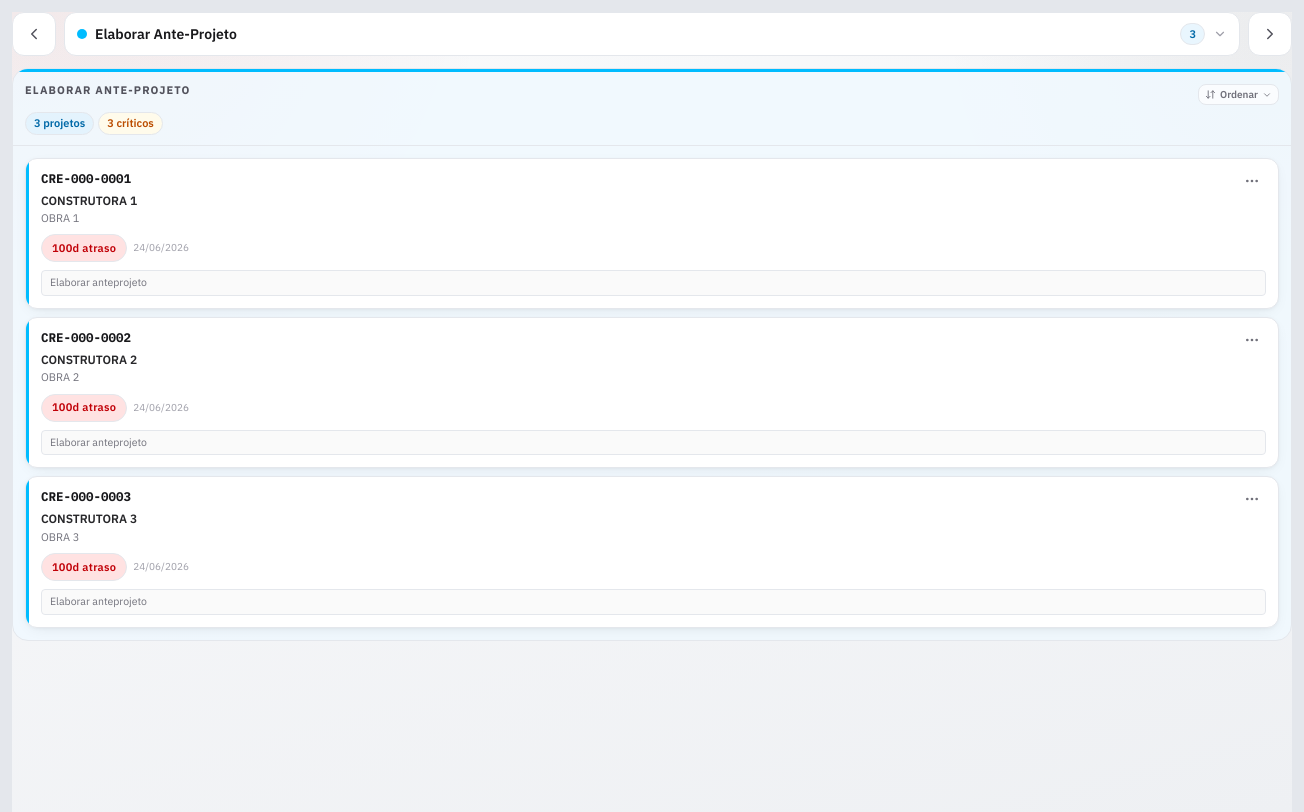
Test case: Kanban no celular — uma etapa por vez › escolher uma etapa distante no seletor troca a etapa exibida
Step 1. Click the button with aria-label "Etapa: " → x=166, y=34, box [64, 12, 1240, 56]
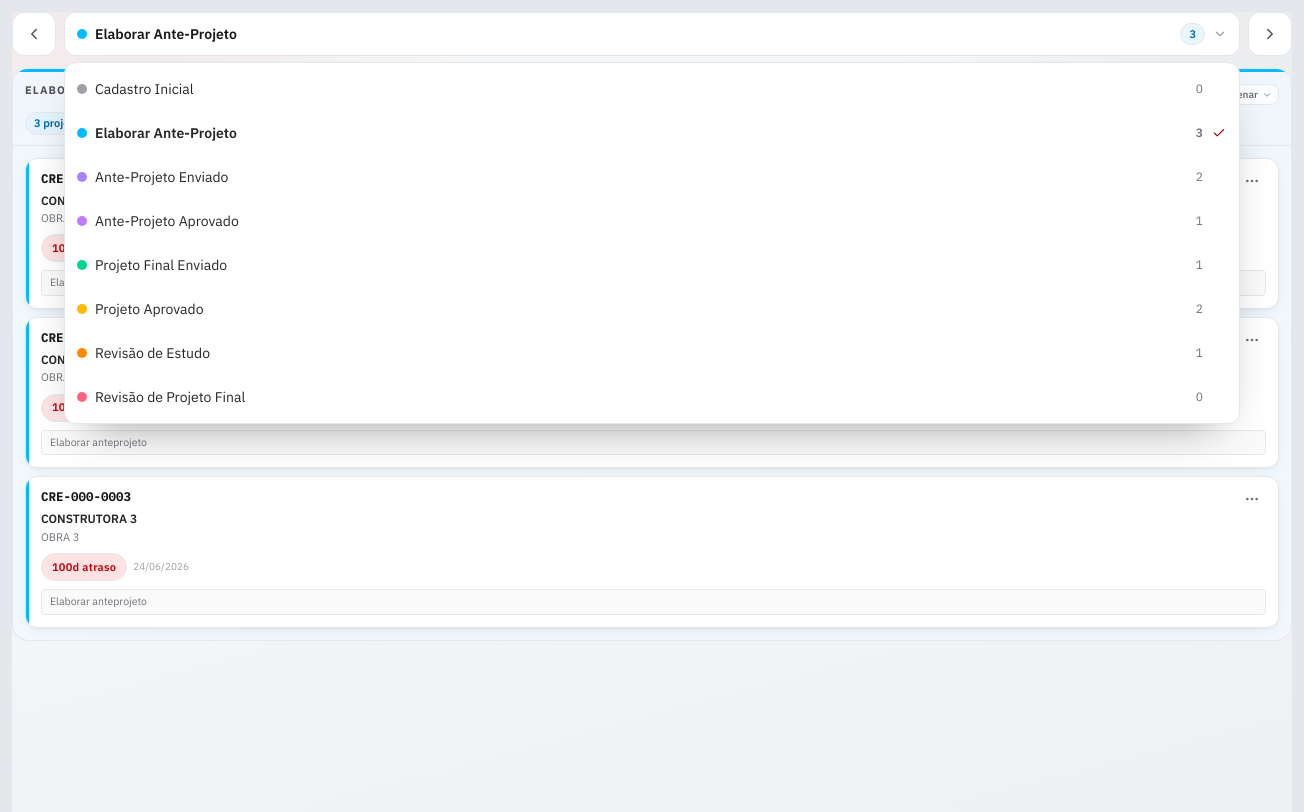
Step 2. Click the menu item "Revisão de Estudo 1" → x=152, y=353, box [77, 344, 1203, 362]
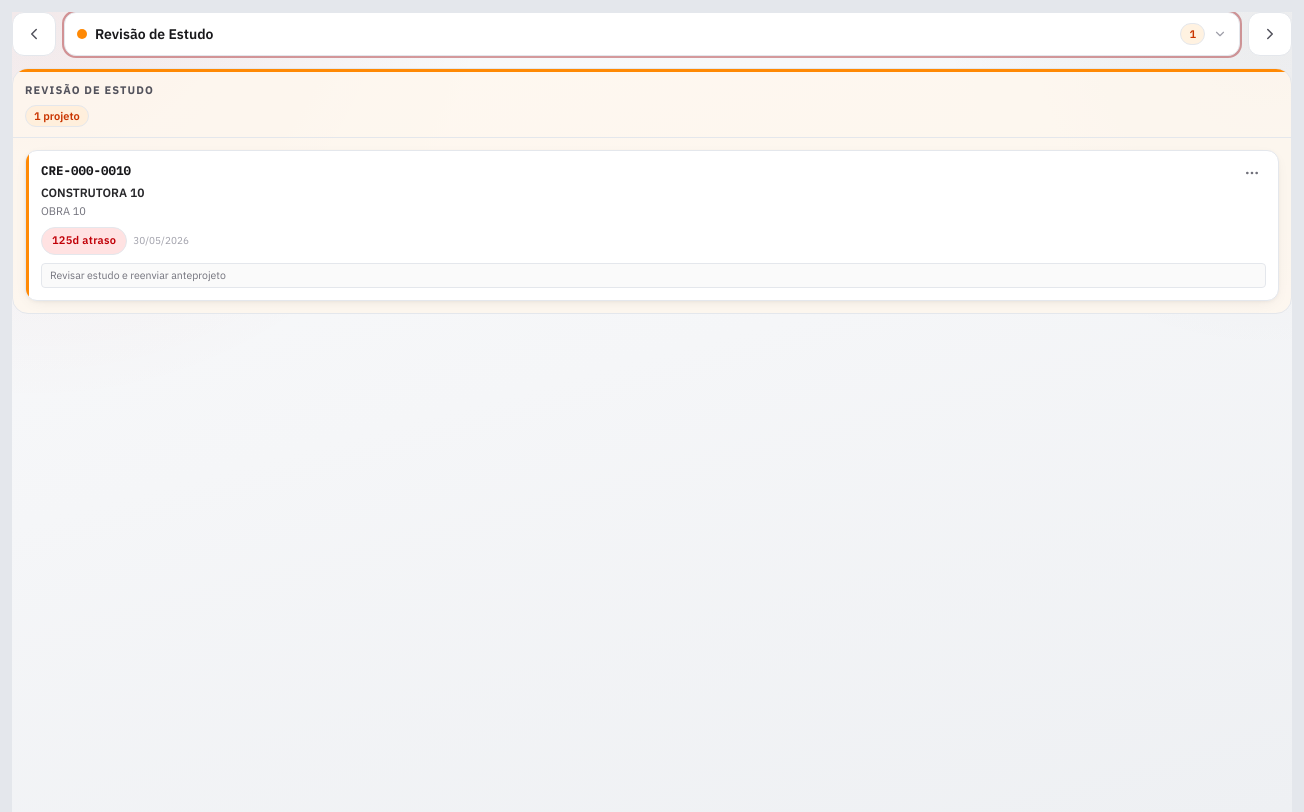
Now the text "Revisão de Estudo" is shown, box [95, 25, 214, 43]
